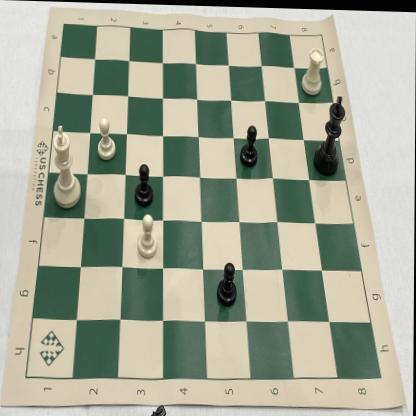black-king: (312, 89, 348, 176)
black-pawn: (215, 253, 241, 308), (133, 156, 156, 209), (239, 119, 260, 168)
white-king: (49, 121, 84, 213)
white-pawn: (134, 211, 161, 262), (94, 113, 118, 162)
white-rook: (300, 41, 327, 97)
